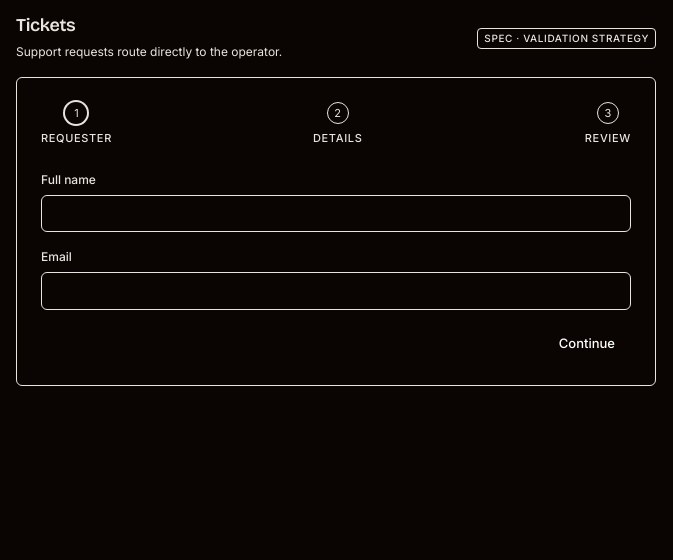
Test: TicketsModule › advances through details to review with entered data
The width and height of the screenshot is (673, 560).
In the field labelled "Full name": coordinates (336, 213) [41,194,631,232], type "Jane Recruiter"
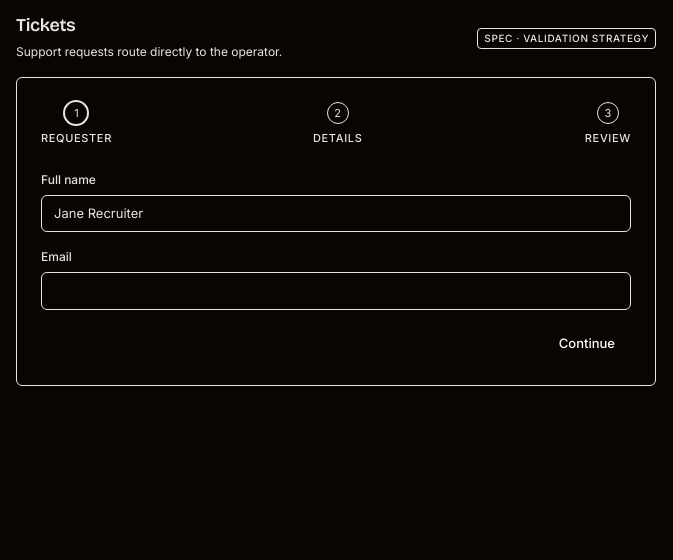
In the field labelled "Email": coordinates (336, 291) [41,272,631,310], type "jane@corp.com"
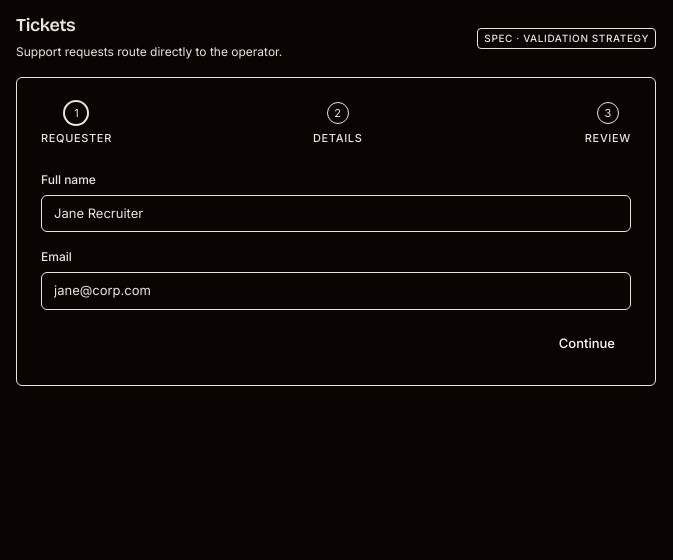
Click the button "Continue": coordinates (587, 343) [543,326,631,361]
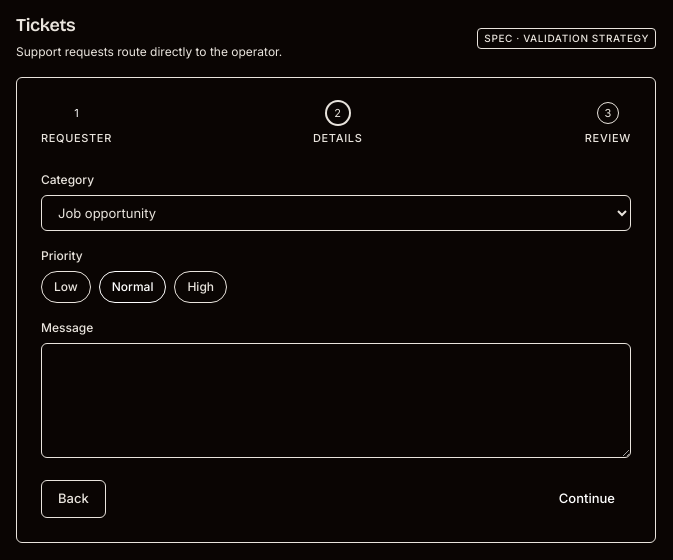
In the text box labelled "Message": coordinates (336, 400) [41,342,631,458], type "We would like to discuss a senior frontend role."
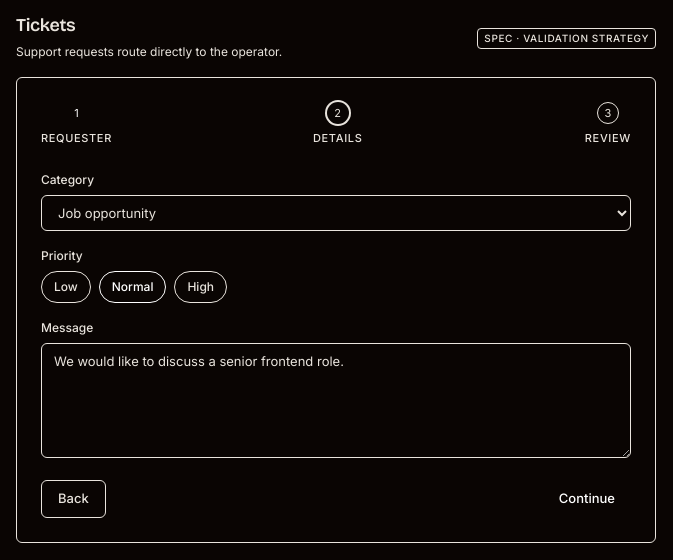
Click the button "Continue": coordinates (587, 499) [543,480,631,518]
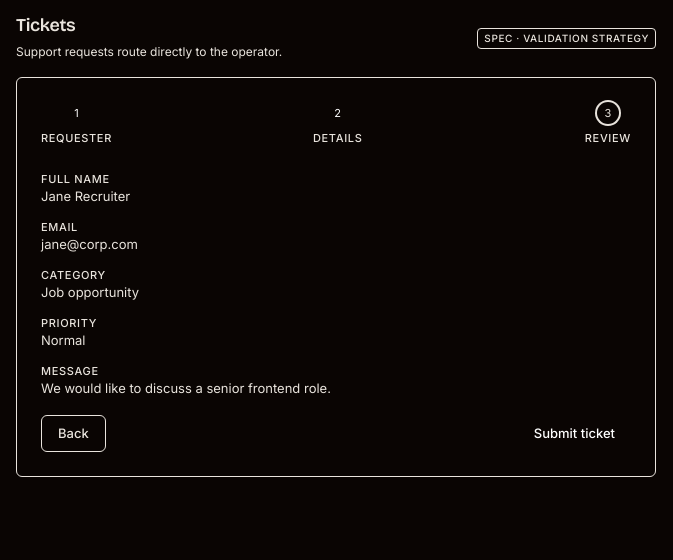
Expected: the text "Review" is shown, [585,130,631,146]
Expected: the text "Jane Recruiter" is shown, [41,188,130,204]
